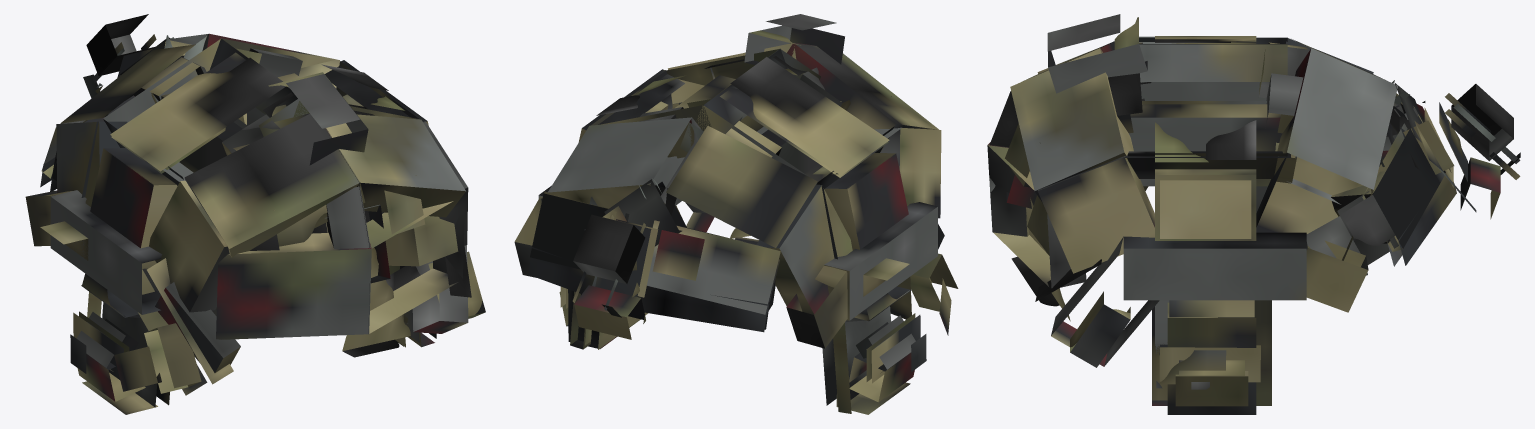
Rendered from pmc_h.obj.
3 renders of one model, left to right at view 1: azimuth 30°, elevation 25°; view 2: azimuth 150°, elevation 25°; view 3: azimuth 270°, elevation 25°, orthographic. The views are drawn at different scales.
Visible parts, largest first — view 1: VOLGA2_selection; view 2: VOLGA2_selection; view 3: VOLGA2_selection.
Boxes of the visible parts, left/top/right/bottom form: VOLGA2_selection: left=25, top=14, right=485, bottom=414; VOLGA2_selection: left=514, top=14, right=958, bottom=414; VOLGA2_selection: left=987, top=14, right=1520, bottom=414.
Bounding box in the file's own units: 0.8438 × 0.6897 × 1.06.
